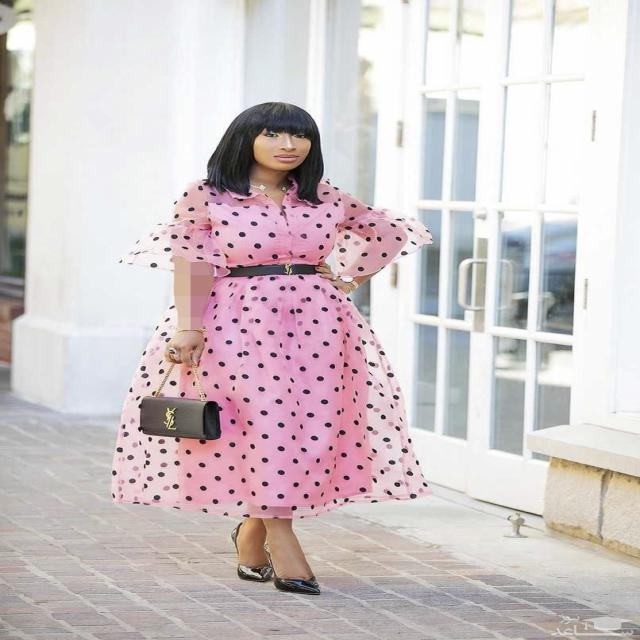clothes: (102, 172, 451, 537)
